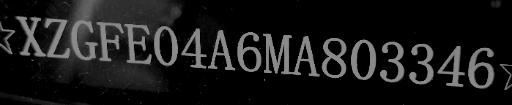letter: (466, 42, 498, 91), (434, 42, 468, 87), (13, 12, 45, 59), (262, 30, 294, 77), (206, 28, 238, 73), (42, 15, 72, 60), (70, 16, 100, 61), (122, 20, 152, 65), (291, 32, 321, 77), (318, 34, 348, 79), (348, 37, 378, 80), (406, 42, 436, 85), (151, 24, 179, 69), (179, 26, 207, 71), (95, 20, 125, 61), (233, 31, 263, 72), (378, 39, 406, 82)
